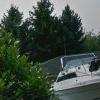Boat: (42, 47, 98, 99)
